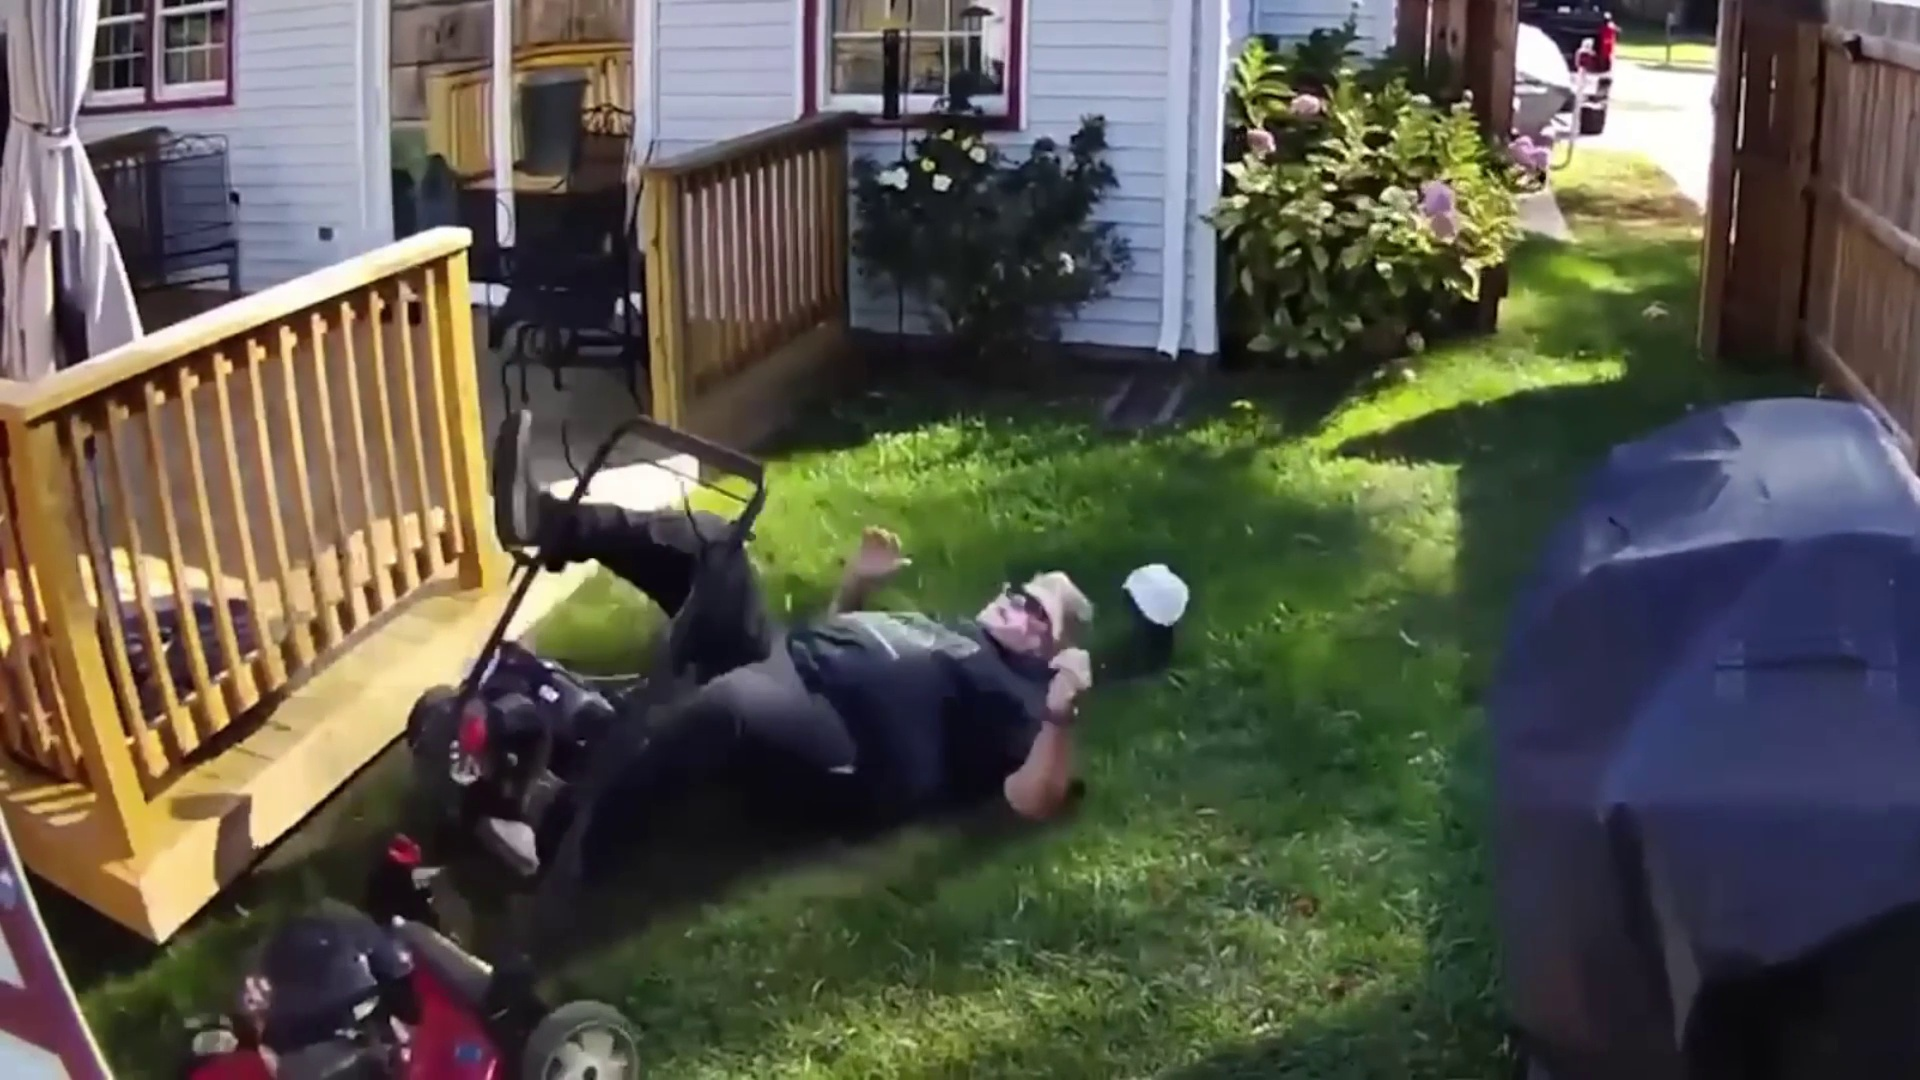fall: (360, 369, 1207, 967)
